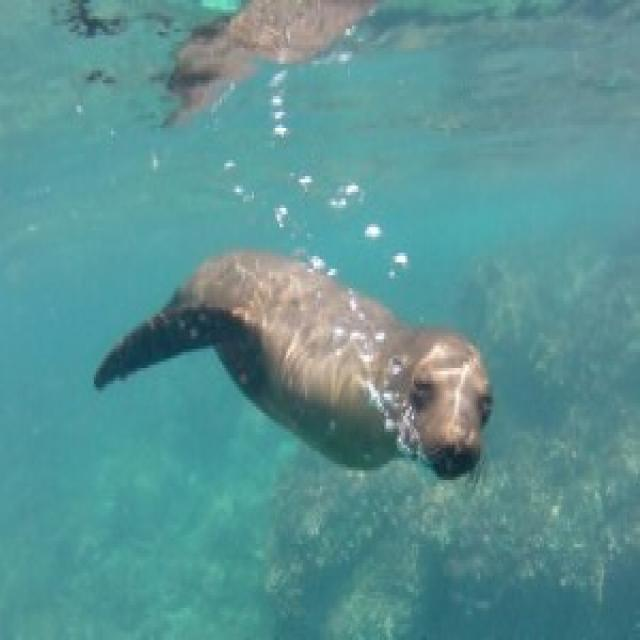Seal: (68, 240, 501, 494)
